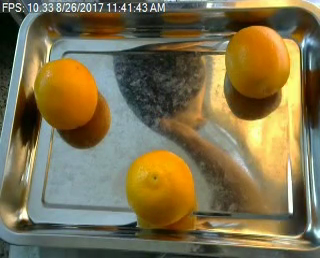Orange: (126, 149, 195, 227), (226, 24, 289, 99), (34, 58, 98, 130)
